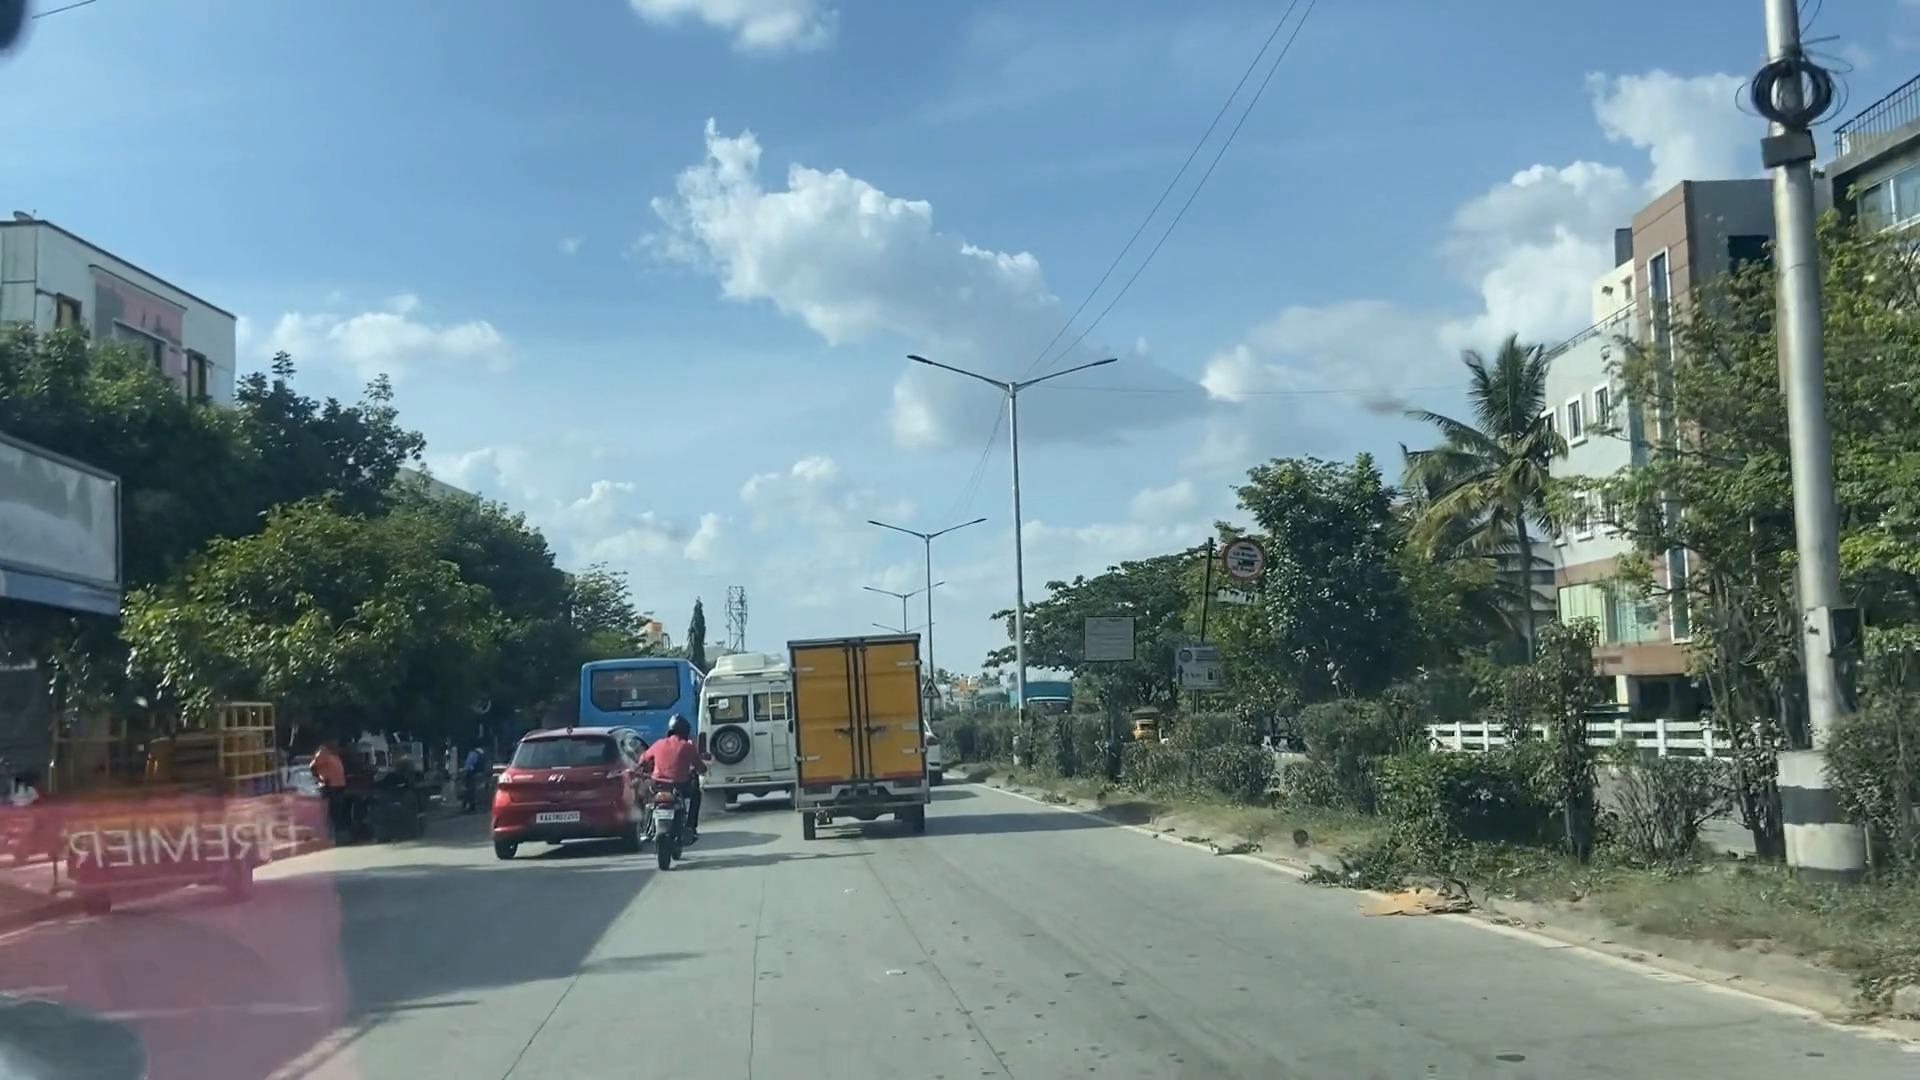HMV: (781, 649, 935, 828), (695, 670, 806, 789)
LMV: (467, 715, 661, 852), (646, 735, 715, 864)
